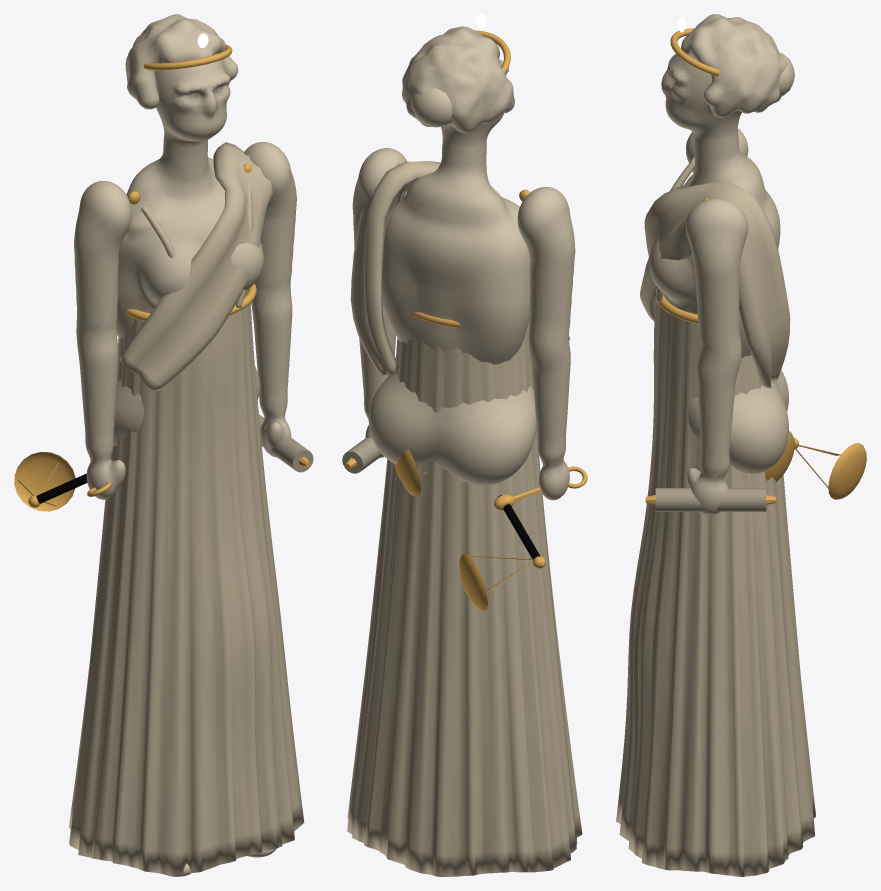
The model's file is themis.glb.
3 views of the same model, side by side, from view 1: azimuth 30°, elevation 25°; view 2: azimuth 150°, elevation 25°; view 3: azimuth 270°, elevation 25° (orthographic).
Parts seen in each view (by area): view 1: Chiton_8@robe~2, Body_1@body, Mantle_14@chest~3, ArmR_3@armR, ArmL_2@armL, Hair_4@Head, LivePanR_21@RightHand, Scroll_29@LeftHand, Diadem_6@Head, LiveBeam_17@RightHand; view 2: Chiton_8@robe~2, Body_1@body, ArmR_3@armR, Hair_4@Head, Mantle_14@chest~3, ArmL_2@armL, Bun_5@Head, LivePanR_21@RightHand, LiveBeam_17@RightHand, Scroll_29@LeftHand, LivePanL_25@RightHand; view 3: Chiton_8@robe~2, Body_1@body, ArmL_2@armL, Mantle_14@chest~3, Hair_4@Head, Scroll_29@LeftHand, LivePanR_21@RightHand, LivePanL_25@RightHand, Diadem_6@Head.
Boxes of the visible parts, x1,y1,x2,y2 form: Chiton_8@robe~2: (69, 303, 304, 875); Body_1@body: (113, 53, 276, 876); Mantle_14@chest~3: (119, 142, 273, 391); ArmR_3@armR: (74, 181, 131, 499); ArmL_2@armL: (244, 142, 296, 457); Hair_4@Head: (125, 14, 238, 109); LivePanR_21@RightHand: (14, 452, 75, 511); Scroll_29@LeftHand: (259, 414, 313, 472); Diadem_6@Head: (143, 44, 232, 70); LiveBeam_17@RightHand: (28, 473, 87, 507); Chiton_8@robe~2: (347, 316, 582, 876); Body_1@body: (368, 59, 536, 485); ArmR_3@armR: (517, 187, 575, 500); Hair_4@Head: (402, 26, 514, 133); Mantle_14@chest~3: (350, 161, 569, 376); ArmL_2@armL: (352, 148, 406, 457); Bun_5@Head: (411, 88, 452, 127); LivePanR_21@RightHand: (459, 553, 533, 611); LiveBeam_17@RightHand: (494, 494, 545, 568); Scroll_29@LeftHand: (342, 437, 382, 473); LivePanL_25@RightHand: (394, 449, 428, 496); Chiton_8@robe~2: (616, 298, 815, 876); Body_1@body: (639, 48, 788, 858); ArmL_2@armL: (686, 198, 748, 515); Mantle_14@chest~3: (640, 182, 790, 388); Hair_4@Head: (681, 14, 787, 117); Scroll_29@LeftHand: (655, 488, 766, 511); LivePanR_21@RightHand: (794, 443, 866, 499); LivePanL_25@RightHand: (765, 431, 794, 481); Diadem_6@Head: (670, 28, 719, 75).
Bounding box in the file's own units: 0.5224 × 1.8 × 0.4991.
